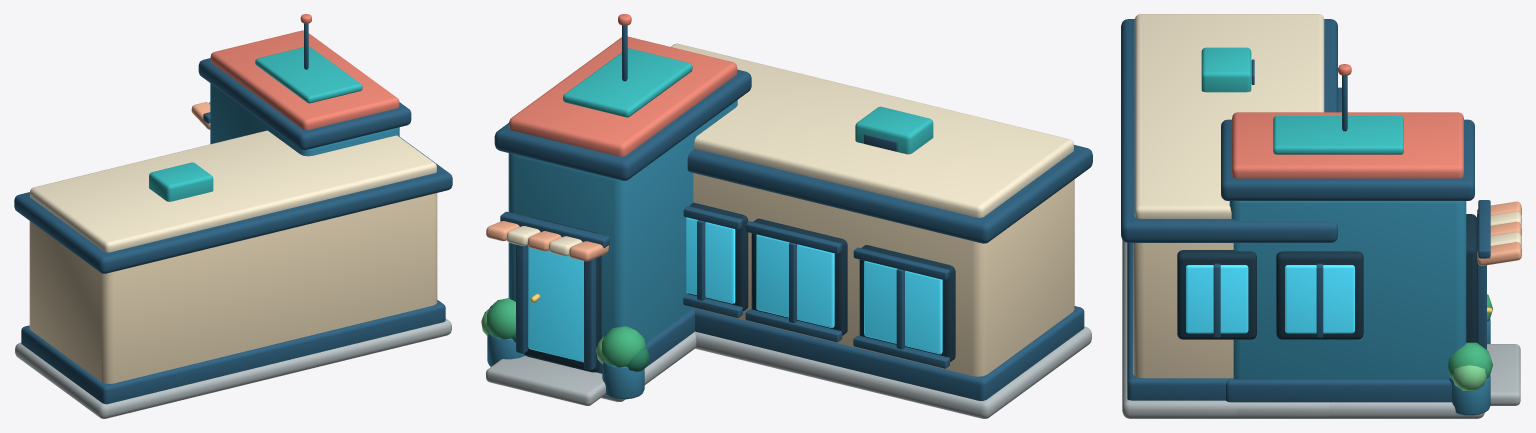
File: corner-studio-level-1.glb
3 views of the same model, side by side, from view 1: azimuth 30°, elevation 25°; view 2: azimuth 150°, elevation 25°; view 3: azimuth 270°, elevation 25° (orthographic). The views are drawn at different scales.
Visible parts, largest first — view 1: broad studio wing, studio flat roof, studio roof shadow, rear wing navy plinth, tower flat roof, L foundation rear, tower roof shadow, future upgrade socket, raised entrance tower, roof utility box; view 2: studio flat roof, broad studio wing, raised entrance tower, studio roof shadow, tower flat roof, rear wing navy plinth, L foundation rear, tower roof shadow, corner glass door, front blue glass, front blue glass.001, future upgrade socket (+26 smaller); view 3: raised entrance tower, studio flat roof, tower flat roof, studio roof shadow, broad studio wing, tower roof shadow, tower navy plinth, future upgrade socket, wraparound side glass, L foundation rear, wraparound side glass.001, L foundation corner (+14 smaller).
Part boxes in pixels (x1,y1,x2,y2): broad studio wing: [29, 193, 437, 383]; studio flat roof: [30, 130, 436, 252]; studio roof shadow: [14, 137, 452, 273]; rear wing navy plinth: [21, 300, 445, 404]; tower flat roof: [210, 30, 399, 130]; L foundation rear: [15, 318, 451, 418]; tower roof shadow: [198, 58, 411, 150]; future upgrade socket: [255, 46, 362, 103]; raised entrance tower: [210, 83, 399, 156]; roof utility box: [149, 162, 213, 201]; studio flat roof: [671, 43, 1073, 217]; broad studio wing: [693, 173, 1074, 376]; raised entrance tower: [508, 100, 737, 342]; studio roof shadow: [687, 145, 1092, 243]; tower flat roof: [509, 36, 737, 156]; rear wing navy plinth: [693, 306, 1084, 400]; L foundation rear: [695, 326, 1091, 418]; tower roof shadow: [494, 69, 751, 180]; corner glass door: [528, 246, 583, 362]; front blue glass: [864, 260, 942, 354]; front blue glass.001: [756, 234, 834, 327]; future upgrade socket: [563, 48, 692, 117]; raised entrance tower: [1229, 201, 1466, 379]; studio flat roof: [1134, 14, 1324, 218]; tower flat roof: [1232, 112, 1463, 178]; studio roof shadow: [1121, 19, 1337, 242]; broad studio wing: [1133, 243, 1233, 378]; tower roof shadow: [1221, 119, 1474, 200]; tower navy plinth: [1226, 378, 1451, 402]; future upgrade socket: [1273, 116, 1403, 154]; wraparound side glass: [1285, 265, 1354, 333]; L foundation rear: [1122, 240, 1329, 418]; wraparound side glass.001: [1186, 265, 1248, 333]; L foundation corner: [1237, 402, 1484, 418].
Bounding box in the file's own units: 8.11 × 5.71 × 6.43.
